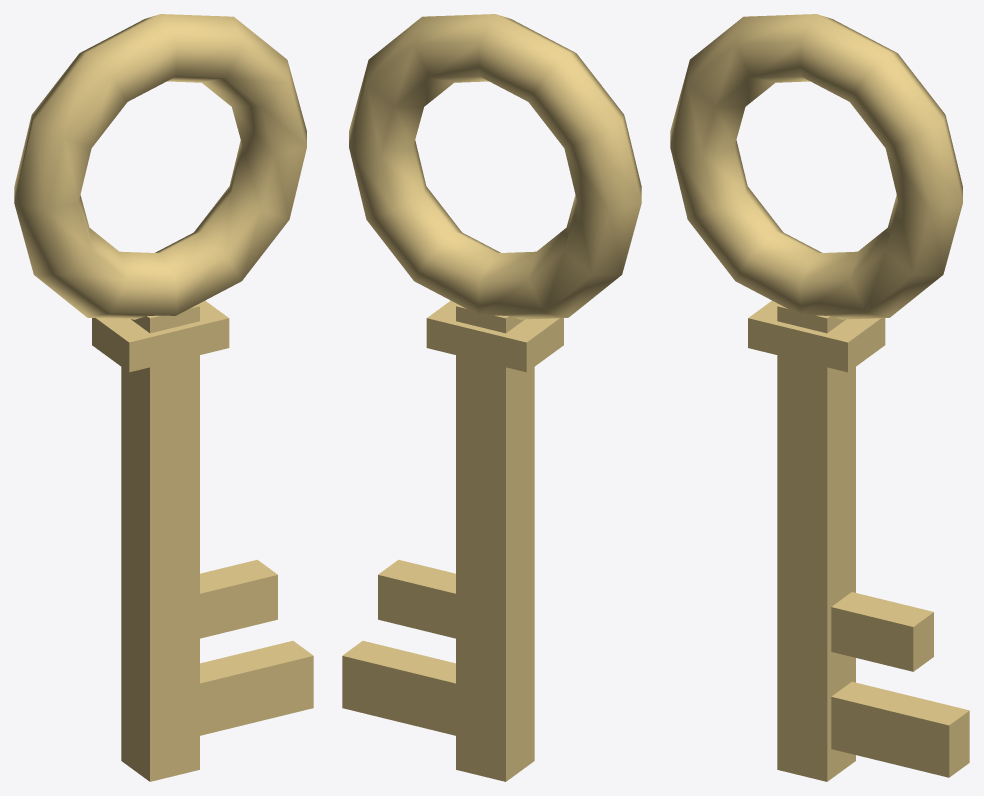
The model's file is key.glb.
The picture shows the model from 3 angles, left to right: view 1: azimuth 30°, elevation 25°; view 2: azimuth 150°, elevation 25°; view 3: azimuth 330°, elevation 25°; orthographic projection.
Parts seen in each view (by area): view 1: key; view 2: key; view 3: key.
Part boxes in pixels (x1,y1,x2,y2): key: [14, 14, 313, 781]; key: [342, 14, 641, 781]; key: [670, 14, 969, 781].
Bounding box in the file's own units: 0.41 × 1 × 0.09.
